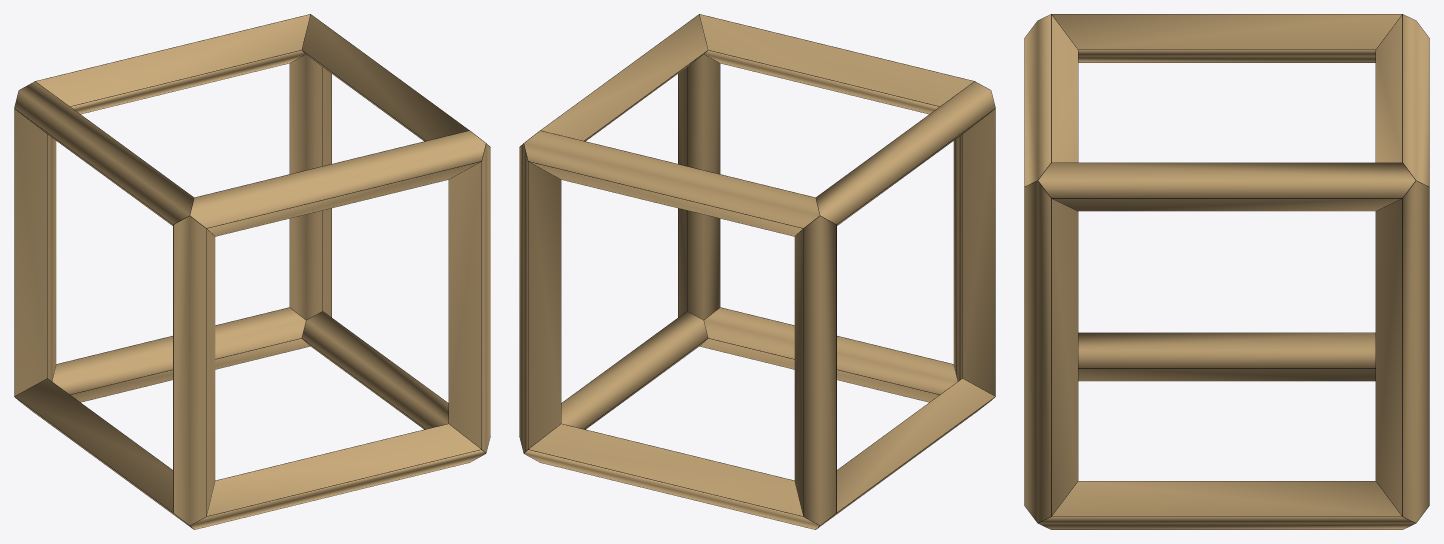
3 views of the same model, side by side, from view 1: azimuth 30°, elevation 25°; view 2: azimuth 150°, elevation 25°; view 3: azimuth 270°, elevation 25° (orthographic). The views are drawn at different scales.
Visible parts, largest first — view 1: arete-Z0, arete-X2, arete-X0, arete-Z1, arete-Z2, arete-X3, arete-X1, arete-Z3, arete-Y2, arete-Y0, arete-Y3, arete-Y1 (+6 smaller); view 2: arete-Z2, arete-X3, arete-X1, arete-Z3, arete-Z0, arete-X2, arete-X0, arete-Z1, arete-Y2, arete-Y0, arete-Y3, arete-Y1 (+7 smaller); view 3: arete-Y3, arete-Z1, arete-Z3, arete-Y1, arete-Y2, arete-Y0, arete-X2, arete-X3, arete-wire-Y1, arete-wire-Y2, arete-wire-Z1, arete-wire-Z3 (+3 smaller).
Boxes of the visible parts, x1,y1,x2,y2 form: arete-Z0: [173, 216, 215, 525]; arete-X2: [190, 131, 485, 236]; arete-X0: [190, 424, 485, 529]; arete-Z1: [449, 144, 490, 452]; arete-Z2: [14, 109, 56, 395]; arete-X3: [36, 14, 309, 113]; arete-X1: [52, 307, 309, 402]; arete-Z3: [290, 54, 331, 319]; arete-Y2: [14, 81, 193, 225]; arete-Y0: [15, 378, 190, 526]; arete-Y3: [302, 15, 468, 141]; arete-Y1: [302, 311, 448, 429]; arete-Z2: [794, 216, 836, 525]; arete-X3: [524, 131, 819, 236]; arete-X1: [524, 424, 819, 529]; arete-Z3: [519, 144, 560, 452]; arete-Z0: [953, 109, 995, 395]; arete-X2: [700, 14, 973, 113]; arete-X0: [700, 307, 957, 402]; arete-Z1: [678, 54, 719, 319]; arete-Y2: [816, 81, 995, 225]; arete-Y0: [819, 378, 994, 526]; arete-Y3: [541, 15, 707, 141]; arete-Y1: [561, 311, 707, 429]; arete-Y3: [1038, 163, 1415, 211]; arete-Z1: [1024, 181, 1077, 522]; arete-Z3: [1376, 181, 1429, 522]; arete-Y1: [1038, 481, 1415, 529]; arete-Y2: [1052, 14, 1401, 62]; arete-Y0: [1078, 333, 1375, 381]; arete-X2: [1024, 14, 1077, 186]; arete-X3: [1376, 14, 1429, 186]; arete-wire-Y1: [1038, 481, 1415, 529]; arete-wire-Y2: [1051, 14, 1415, 62]; arete-wire-Z1: [1024, 180, 1078, 516]; arete-wire-Z3: [1375, 187, 1429, 516].
Bounding box in the file's own units: 0.4288 × 0.4288 × 0.4288.
